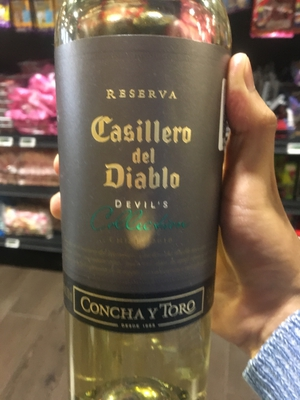casillero del diablo devils collection verde: (55, 7, 231, 399)
